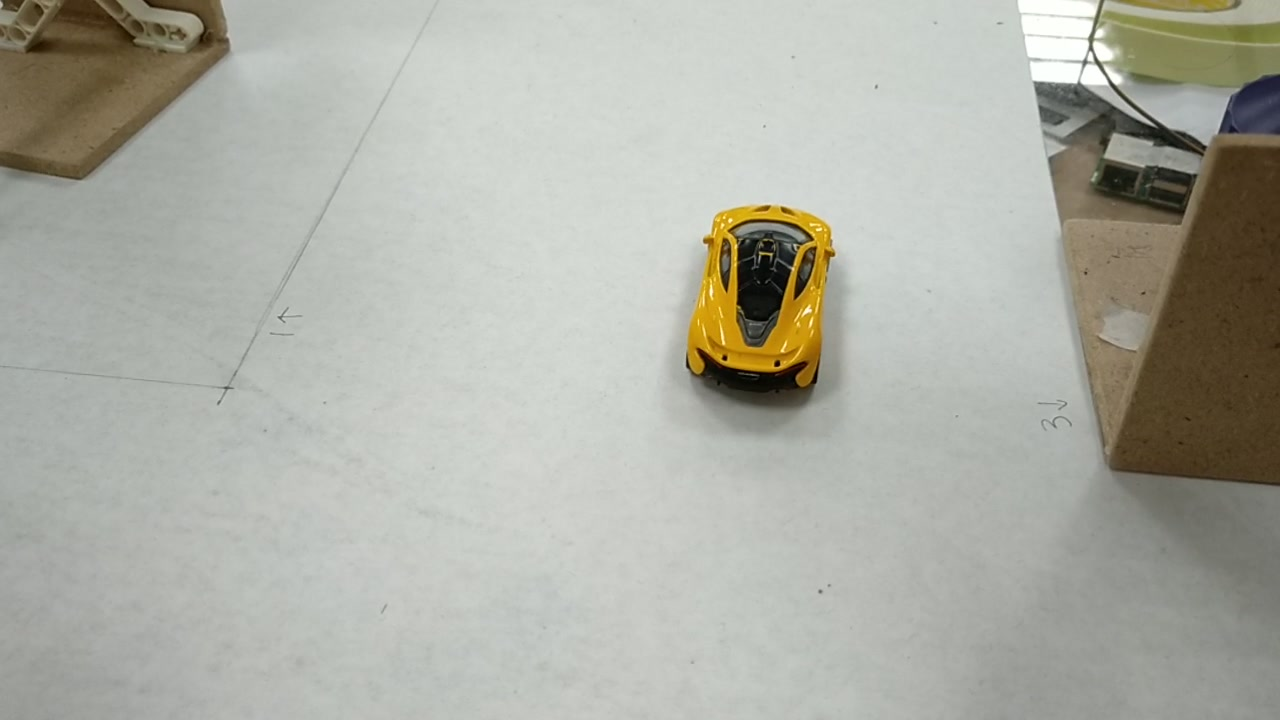car: (691, 207, 833, 383)
